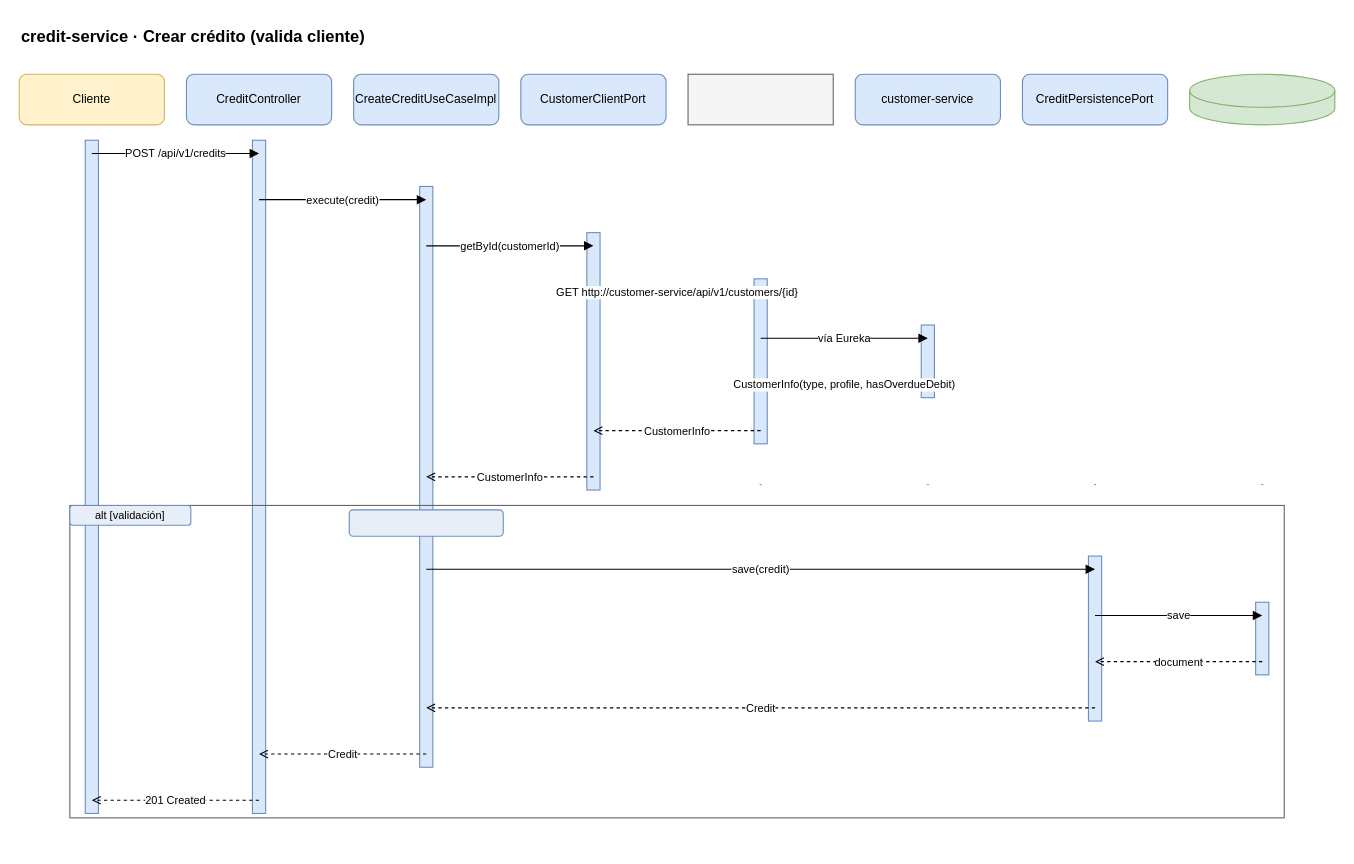
This 1354x864 diagram has some shape labels left out. The box of each missing label's shape, as (x1, y1, x2, y2) in pixels:
CustomerWebClientAdapter: (687, 73, 833, 125)
deuda->409 | PERSONAL/BUSINESS->409 | sin creditLimit->400: (348, 509, 503, 536)
MongoDB: (1189, 73, 1335, 125)
